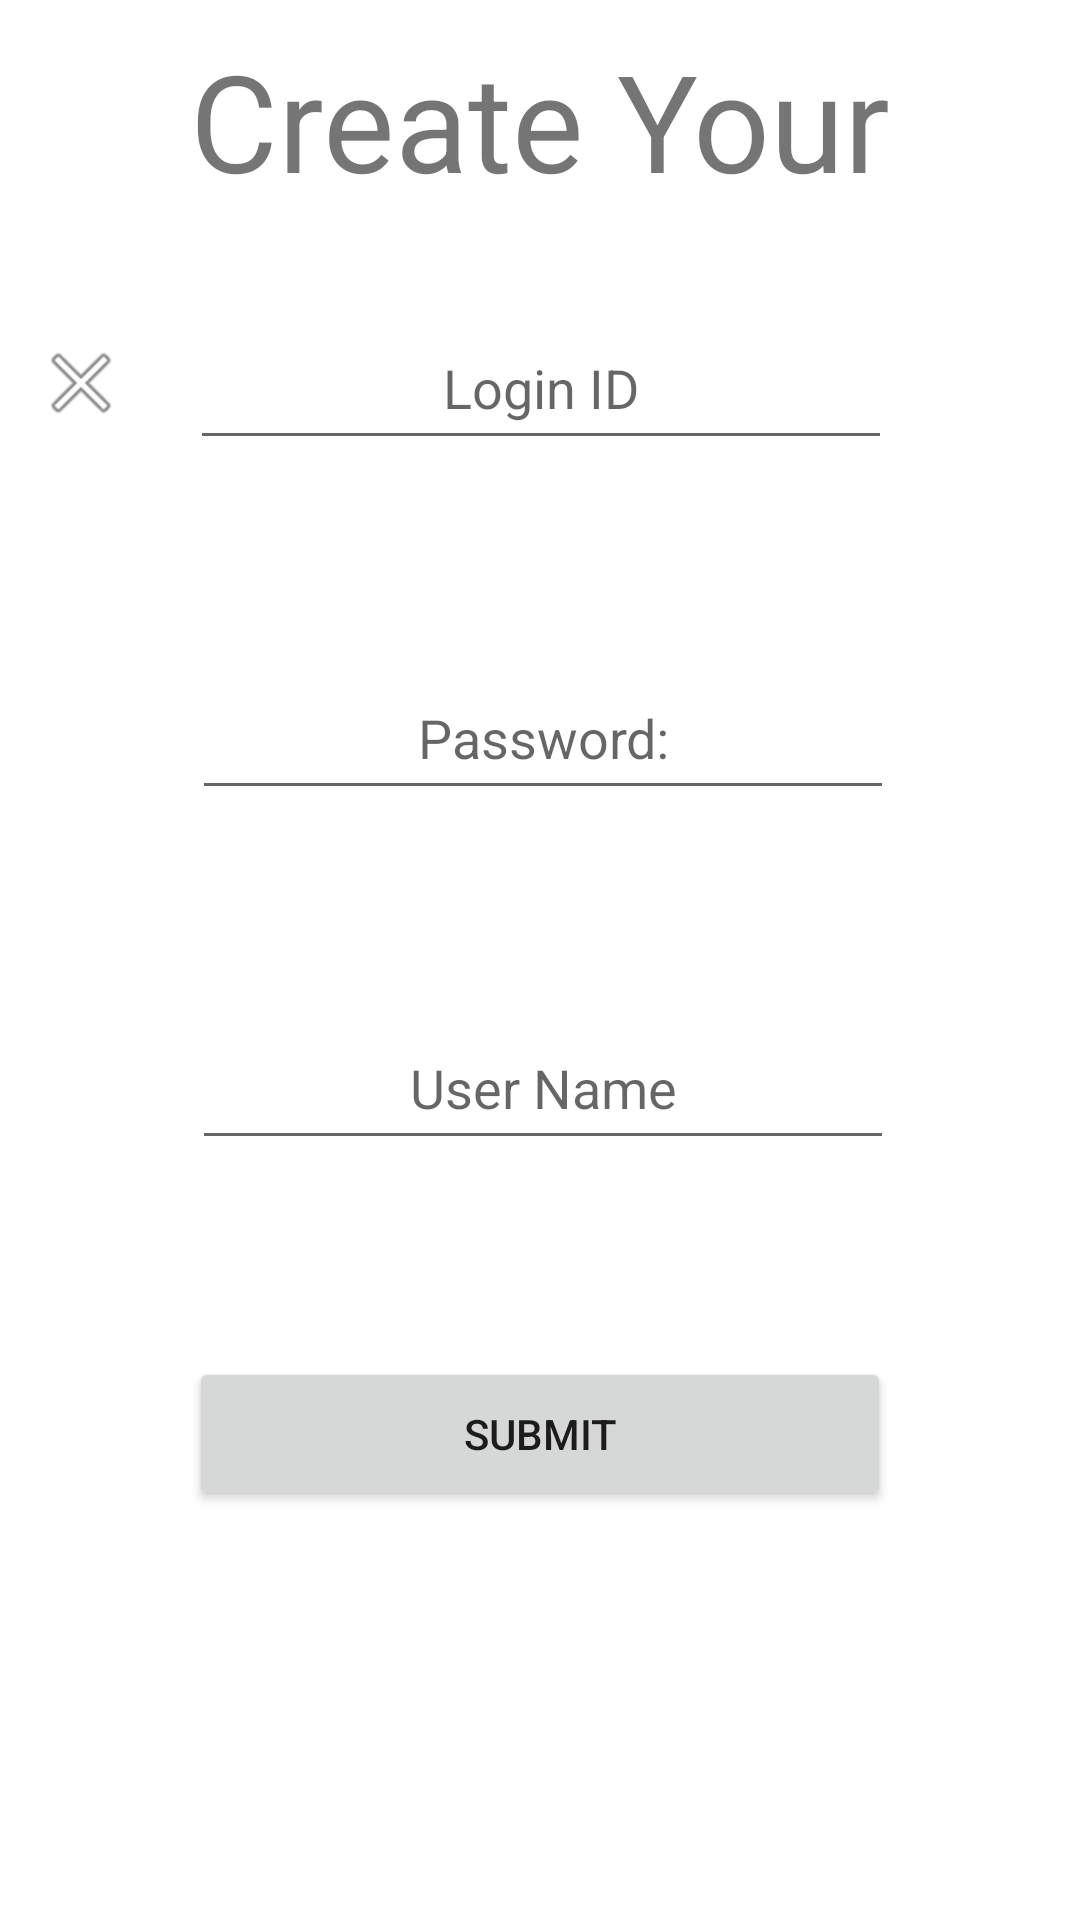

Screen size 1080 x 1920. Icon name, then its box in pixels as detection(x1, y1, x2, y2):
close clear cancel: detection(51, 353, 111, 413)
